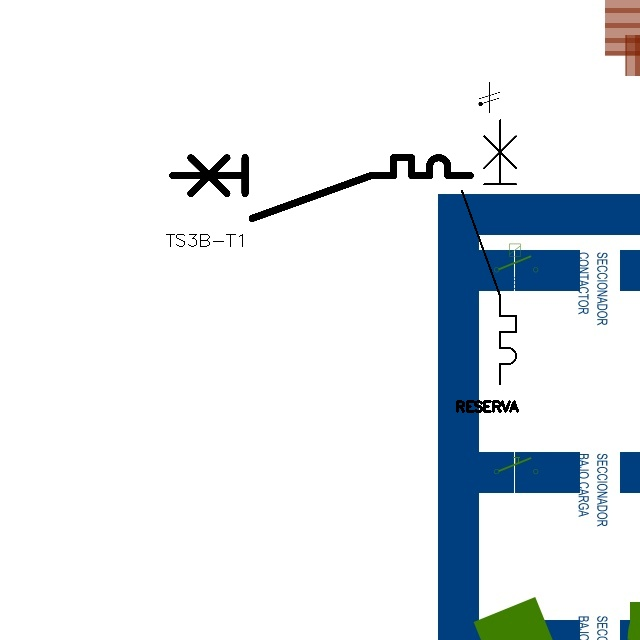interruptor_termomagnetico: (165, 150, 478, 226), (455, 113, 523, 391)
